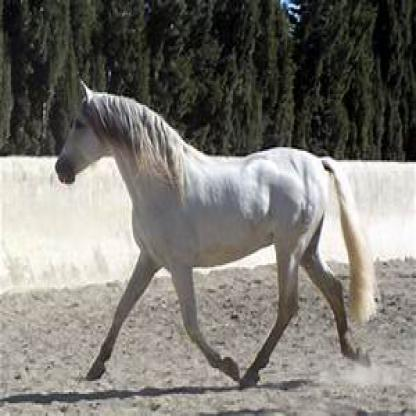horse: (54, 77, 380, 396)
